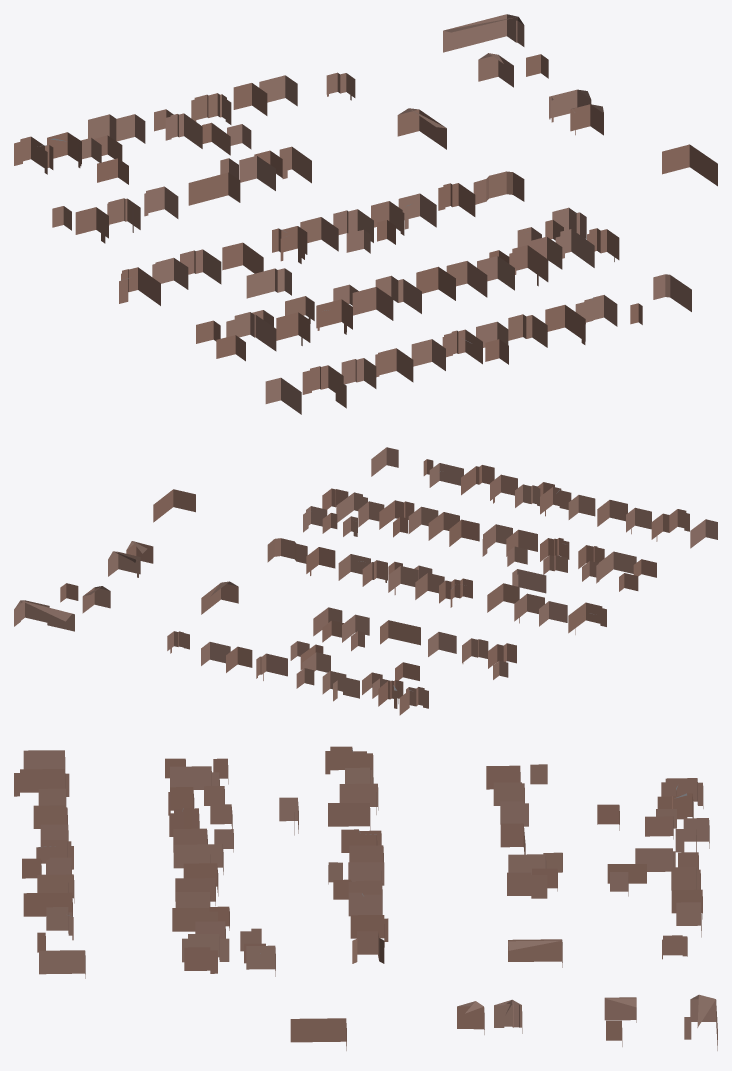
File: c_1642_17830_buildings_residential.glb
3 renders of one model, top to bottom at view 1: azimuth 30°, elevation 25°; view 2: azimuth 150°, elevation 25°; view 3: azimuth 270°, elevation 25°, orthographic. The views are drawn at different scales.
Parts seen in each view (by area): view 1: geometry_0; view 2: geometry_0; view 3: geometry_0.
Boxes of the visible parts, left/top/right/bottom form: geometry_0: left=14, top=14, right=717, bottom=414; geometry_0: left=14, top=447, right=717, bottom=715; geometry_0: left=14, top=746, right=717, bottom=1050.
Size of the model in its own units: 248 by 10.94 by 258.
